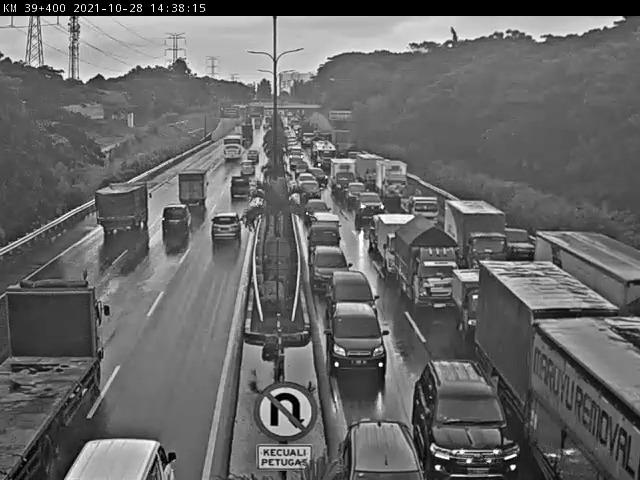big bus: (224, 133, 243, 159)
big truck: (477, 259, 640, 480), (0, 260, 115, 480), (537, 230, 640, 325), (398, 215, 456, 312), (443, 199, 509, 274), (89, 176, 150, 239), (178, 165, 217, 208)
car: (425, 353, 515, 480), (59, 430, 187, 480), (326, 301, 396, 382), (344, 416, 423, 480), (308, 244, 355, 295), (330, 269, 375, 315), (158, 201, 194, 237), (506, 225, 537, 258), (213, 210, 242, 240), (241, 162, 258, 177), (248, 145, 264, 160)
small truck: (458, 269, 496, 335), (228, 175, 256, 201)
